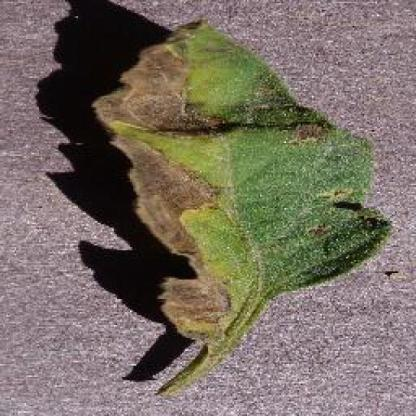Tomato_Blight: (96, 20, 390, 328)
